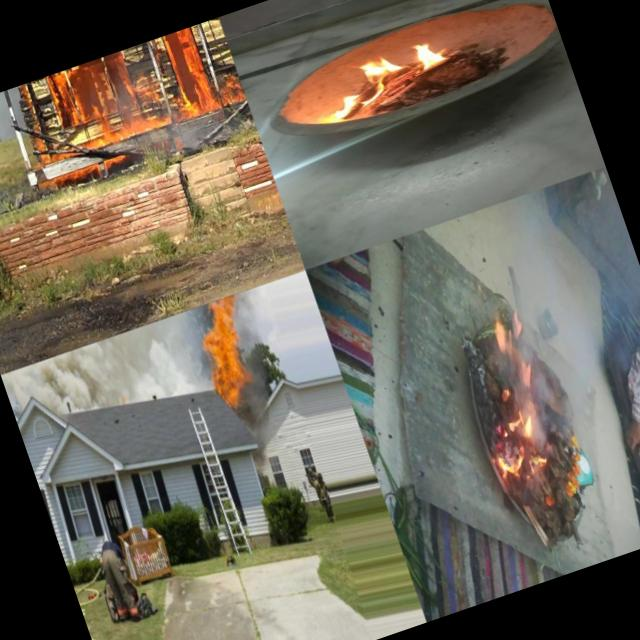fire: (0, 17, 243, 166), (307, 30, 453, 126), (188, 300, 255, 414), (37, 147, 133, 198), (581, 462, 640, 543), (220, 294, 247, 335)
smoke: (489, 323, 640, 529), (54, 329, 155, 415), (126, 101, 236, 178), (136, 311, 213, 400), (232, 326, 284, 402), (1, 356, 64, 403), (236, 398, 287, 456), (234, 285, 273, 331)
